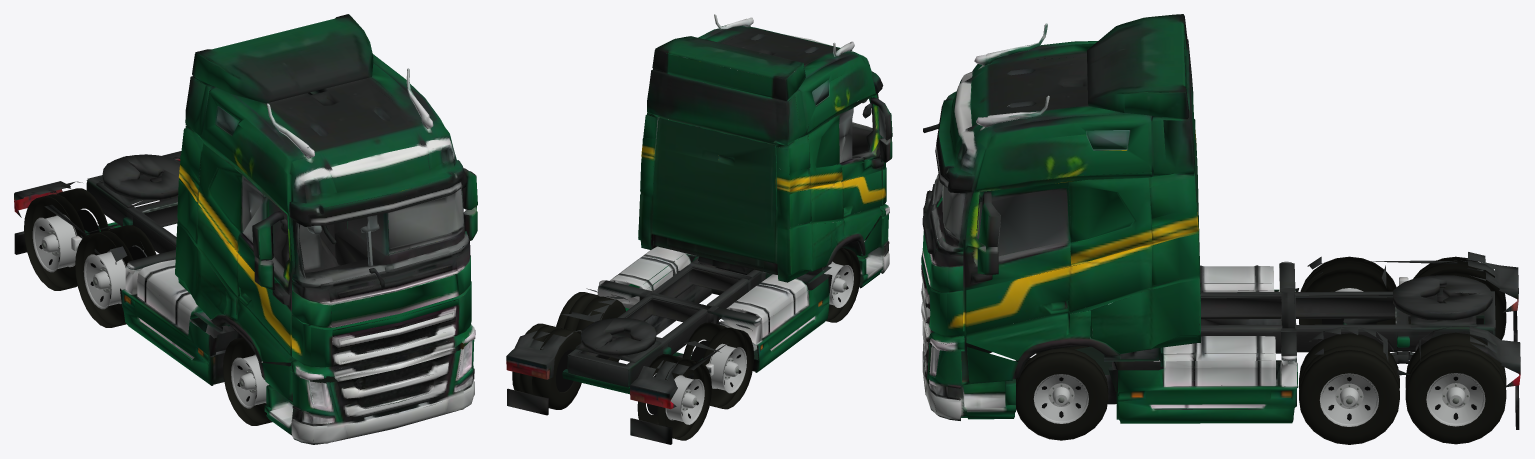
Rendered from carreta-cab-0.glb.
3 views of the same model, side by side, from view 1: azimuth 30°, elevation 25°; view 2: azimuth 150°, elevation 25°; view 3: azimuth 270°, elevation 25° (orthographic). The views are drawn at different scales.
Visible parts, largest first — view 1: Frota_cab, Tyre_Rear2_L, Tyre_Rear_L, Tyre_Front_L; view 2: Frota_cab, Tyre_Rear_L, Tyre_Rear2_L, Tyre_Rear2_R, Tyre_Front_L, Tyre_Rear_R; view 3: Frota_cab, Tyre_Rear_R, Tyre_Rear2_R, Tyre_Front_R, Tyre_Rear_L, Tyre_Rear2_L.
Part boxes in pixels (x1,y1,x2,y2): Frota_cab: [14, 14, 477, 444]; Tyre_Rear2_L: [24, 188, 109, 290]; Tyre_Rear_L: [75, 225, 156, 327]; Tyre_Front_L: [223, 337, 272, 425]; Frota_cab: [506, 14, 892, 444]; Tyre_Rear_L: [682, 322, 754, 409]; Tyre_Rear2_L: [637, 354, 711, 440]; Tyre_Rear2_R: [512, 323, 581, 409]; Tyre_Front_L: [809, 247, 860, 322]; Tyre_Rear_R: [556, 292, 625, 362]; Frota_cab: [921, 14, 1520, 429]; Tyre_Rear_R: [1299, 333, 1399, 444]; Tyre_Rear2_R: [1405, 332, 1506, 444]; Tyre_Front_R: [1016, 348, 1108, 440]; Tyre_Rear_L: [1299, 256, 1396, 324]; Tyre_Rear2_L: [1408, 256, 1506, 339].
Bounding box in the file's own units: 3.03 × 4.29 × 6.8.
Materials: 1 (1 with a texture image).
